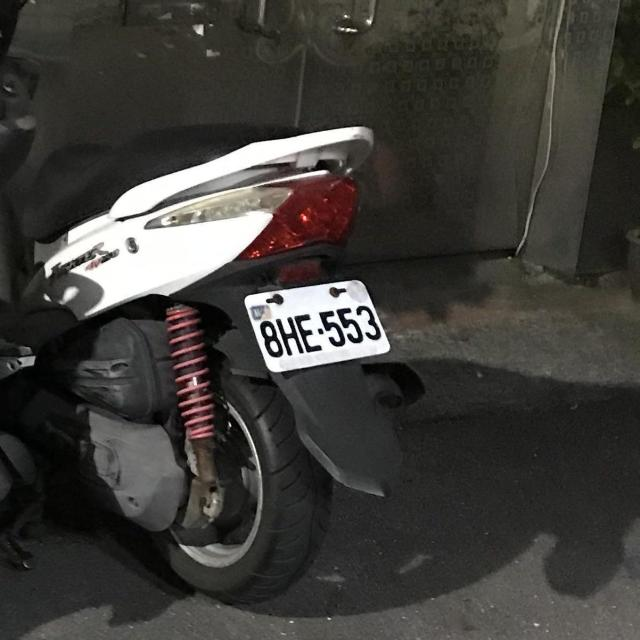W: (242, 269, 392, 378)
